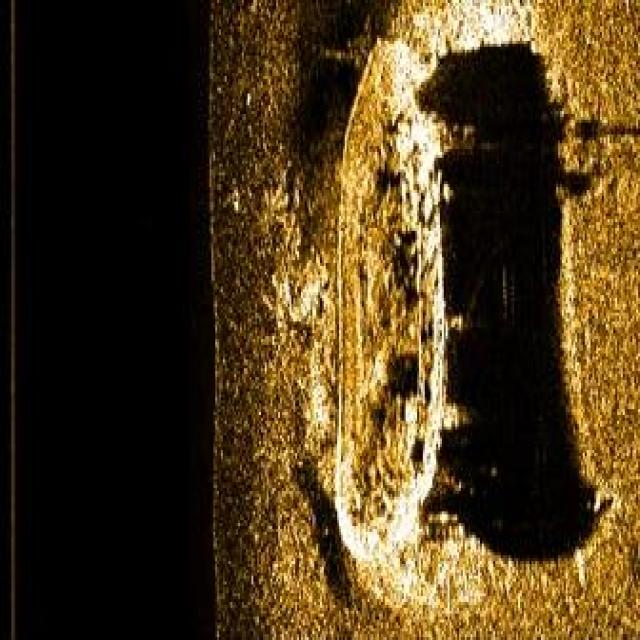ship: (329, 35, 452, 561)
